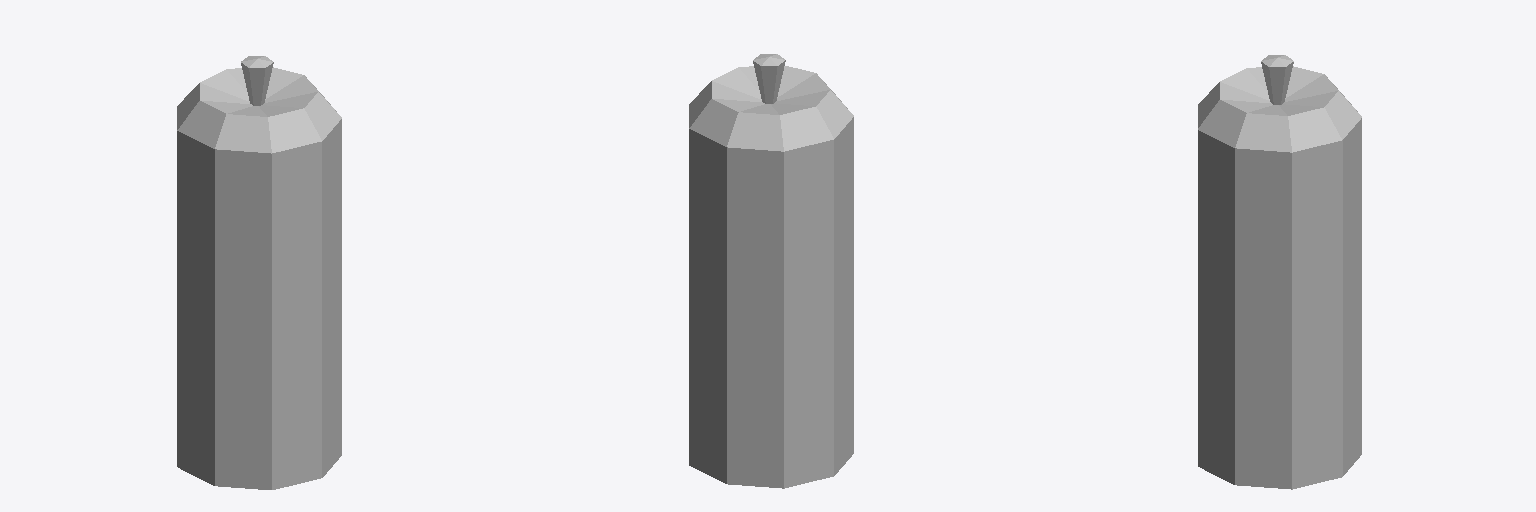
File: candle.obj
The picture shows the model from 3 angles: view 1: azimuth 30°, elevation 25°; view 2: azimuth 150°, elevation 25°; view 3: azimuth 270°, elevation 25°; orthographic projection.
Visible parts, largest first — view 1: candle_Cylinder.112; view 2: candle_Cylinder.112; view 3: candle_Cylinder.112.
Boxes of the visible parts, box(x1,y1,x2,y2) form: candle_Cylinder.112: box(177, 56, 341, 489); candle_Cylinder.112: box(689, 54, 853, 488); candle_Cylinder.112: box(1198, 55, 1361, 489).
Bounding box in the file's own units: 0.3009 × 0.7857 × 0.2964.